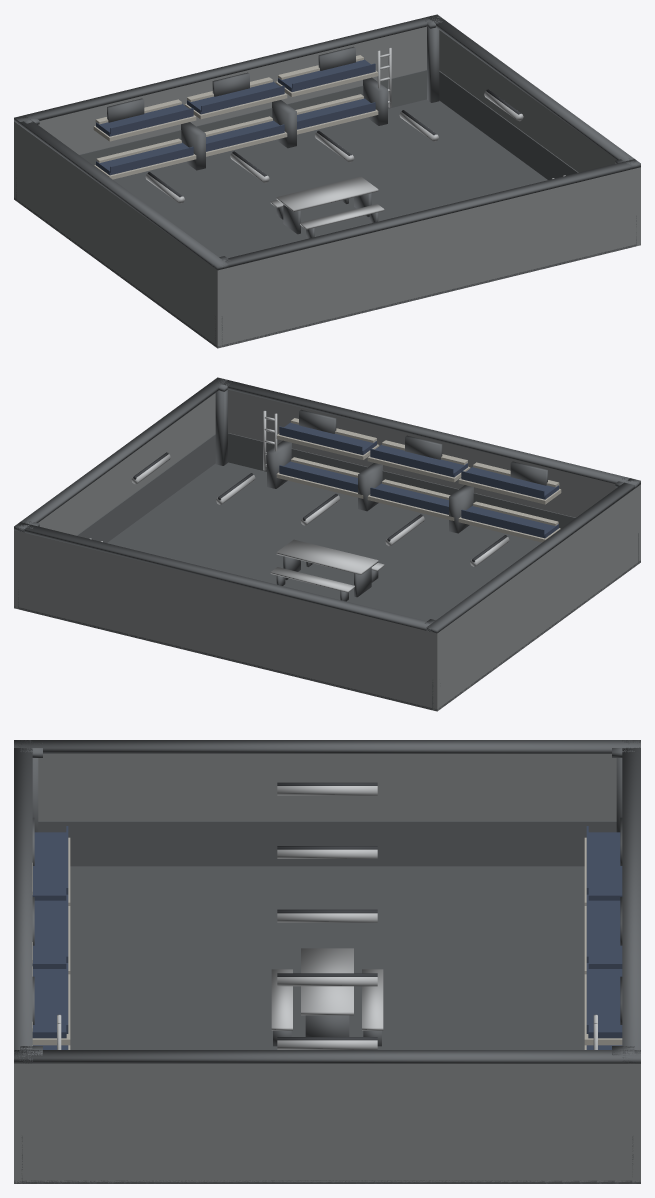
Rendered from berthing.glb.
The picture shows the model from 3 angles, top to bottom: view 1: azimuth 30°, elevation 25°; view 2: azimuth 150°, elevation 25°; view 3: azimuth 270°, elevation 25°; orthographic projection. The views are drawn at different scales.
Parts seen in each view (by area): view 1: Berthing; view 2: Berthing; view 3: Berthing.
Boxes of the visible parts, x1,y1,x2,y2 form: Berthing: [14, 14, 640, 348]; Berthing: [14, 377, 640, 711]; Berthing: [14, 740, 640, 1183].
Size of the model in its own units: 12 by 2.22 by 10.
